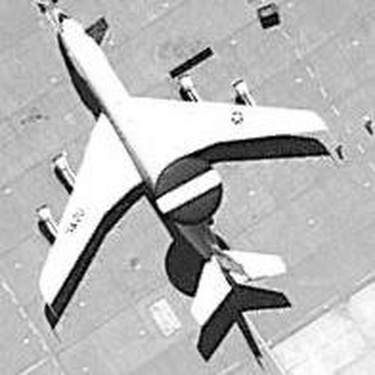airplane: (7, 2, 336, 355)
